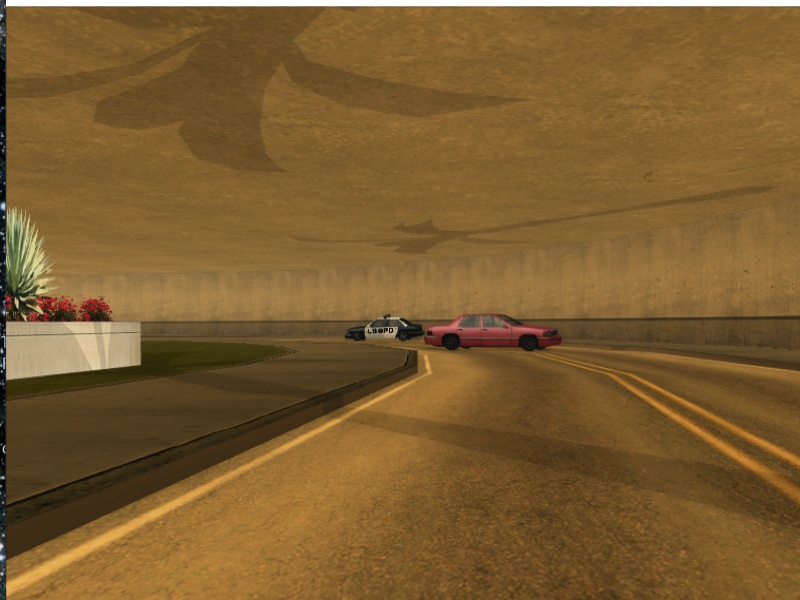vehicle: (426, 311, 563, 353), (340, 312, 424, 341)
